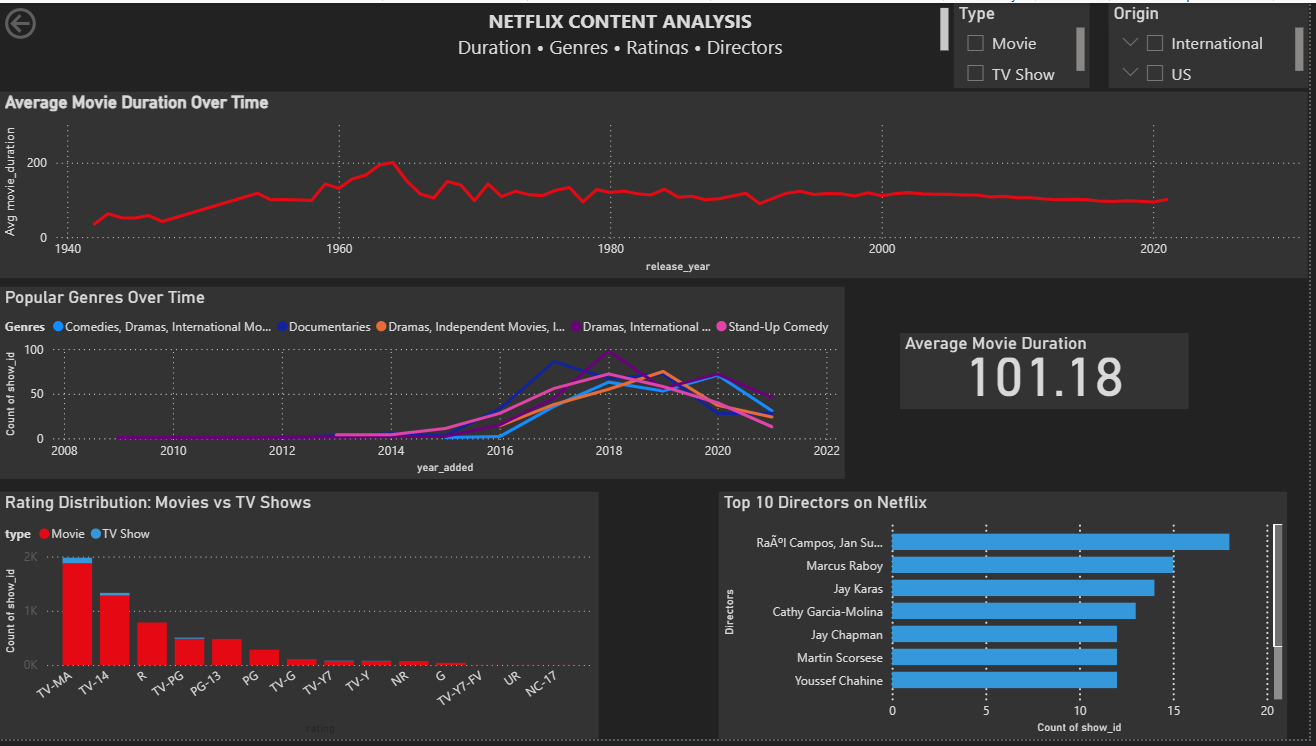

The page's visual inventory and layout, read from the dashboard file:
{"tool":"powerbi","page":{"name":"Page 2","canvas":[1280,720],"ordinal":1},"visuals":[{"type":"lineChart","title":"Popular Genres Over Time","fields":{"Category":["netflix_titles.year_added"],"Y":["CountNonNull(netflix_titles.show_id)"],"Series":["netflix_titles.Genres"]},"box":[0,277.6,826.6,188.3],"z":0},{"type":"card","title":"Average Movie Duration","fields":{"Values":["Avg(netflix_titles.movie_duration)"]},"box":[880.4,322.8,282.5,74.6],"z":1000},{"type":"actionButton","box":[0,0,100,40],"z":2000},{"type":"lineChart","title":"Average Movie Duration Over Time","fields":{"Category":["netflix_titles.release_year"],"Y":["Avg(netflix_titles.movie_duration)"]},"box":[0,86.8,1279.1,182.2],"z":3000},{"type":"columnChart","title":"Rating Distribution: Movies vs TV Shows","fields":{"Category":["netflix_titles.rating"],"Y":["CountNonNull(netflix_titles.show_id)"],"Series":["netflix_titles.type"]},"box":[0,478.1,585.7,242.1],"z":4000},{"type":"slicer","title":"Type","fields":{"Values":["netflix_titles.type"]},"box":[932.9,0,132.8,83.4],"z":5000},{"type":"slicer","title":"Origin","fields":{"Values":["netflix_titles.content_origin","netflix_titles.year_added","netflix_titles.rating"]},"box":[1084.5,0,195,83.4],"z":6000},{"type":"barChart","title":"Top 10 Directors on Netflix","fields":{"Category":["netflix_titles.Directors"],"Y":["CountNonNull(netflix_titles.show_id)"]},"box":[703.1,478.1,556.4,242.1],"z":7000},{"type":"textbox","box":[293.7,0,639.2,55.2],"z":8000}]}

Visuals, with their boxes in screenshot pixels (x1, y1, x2, y2), scaled from the page's 1280x720 canvas onto the 1316x746 screenshot:
"Popular Genres Over Time" lineChart: [0,288,850,483]
"Average Movie Duration" card: [905,334,1196,412]
actionButton: [0,0,103,41]
"Average Movie Duration Over Time" lineChart: [0,90,1315,279]
"Rating Distribution: Movies vs TV Shows" columnChart: [0,495,602,745]
"Type" slicer: [959,0,1096,86]
"Origin" slicer: [1115,0,1315,86]
"Top 10 Directors on Netflix" barChart: [723,495,1295,745]
textbox: [302,0,959,57]
